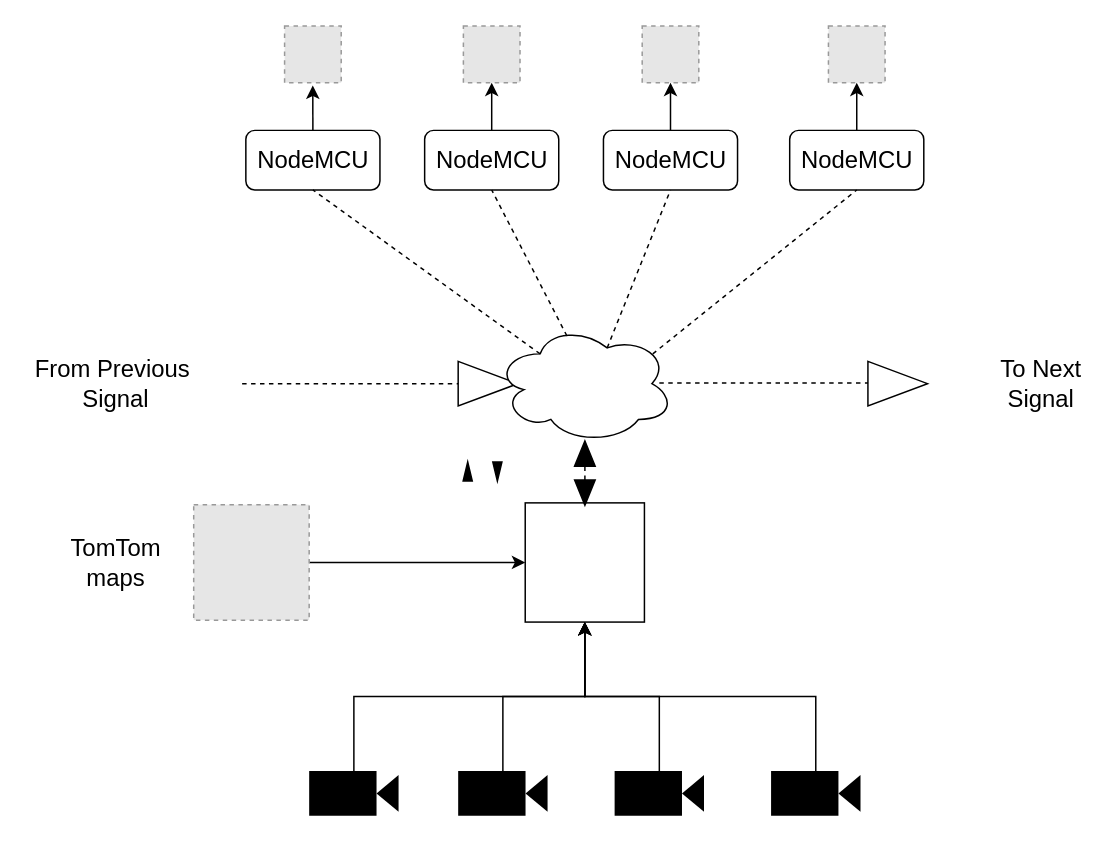
Image size: 1110x842. Some labels were removed from this diagram. Grey dashed boxes stand in for pictures. The shapes that lost their labels are listed below. From the top down, each one's box as (x1, y1, x2, y2) in pixels, then its label:
(494, 323, 674, 443): Firebase Database
(524, 501, 644, 622): Micro Controler
